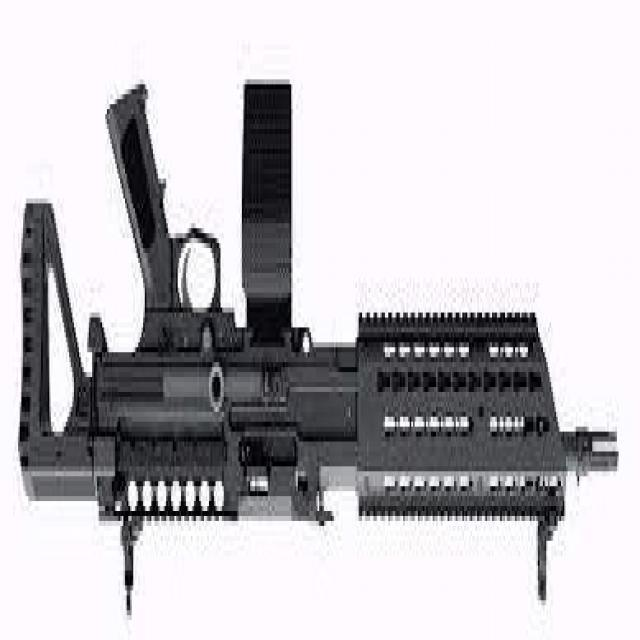weapon: (16, 77, 620, 624)
